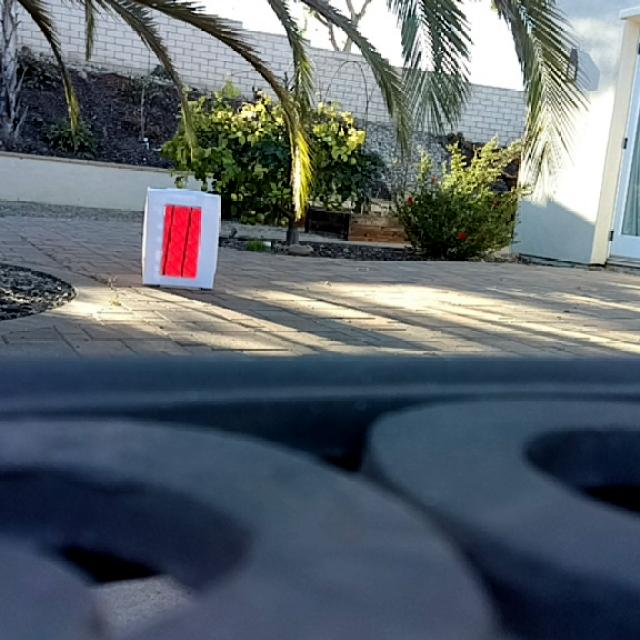led: (159, 204, 203, 282)
